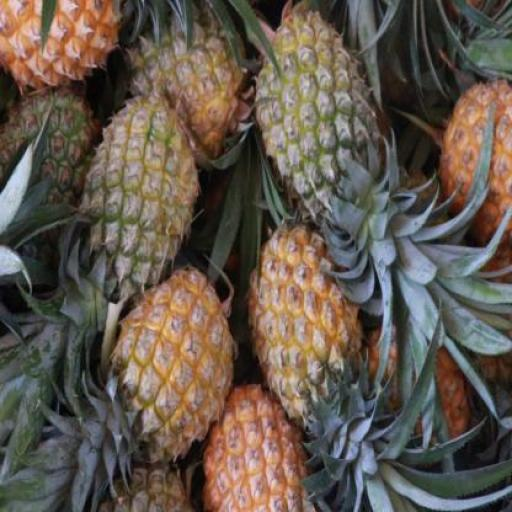------------------------------: (258, 4, 376, 218), (84, 98, 193, 293), (123, 6, 243, 163)
Pineapple - v8 v1: (254, 222, 363, 417), (114, 268, 226, 457), (203, 365, 316, 512)
